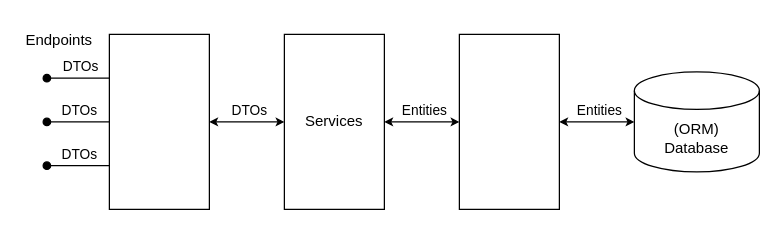
Image size: 781x231. Some labels were removed from this diagram. Here are the shapes that lost their labels. From the top down, the centre of each, then its label:
pixel 158 121: Controllers
pixel 508 121: Repositories
